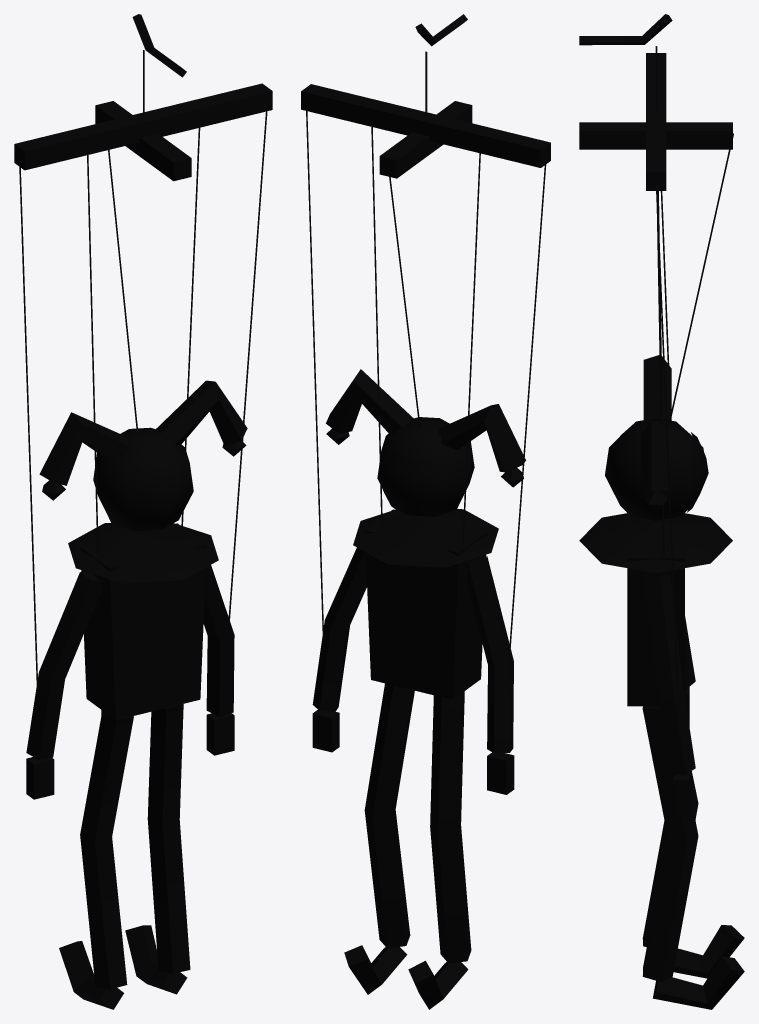
File: SM_marionette.fbx
3 renders of one model, left to right at view 1: azimuth 30°, elevation 25°; view 2: azimuth 150°, elevation 25°; view 3: azimuth 270°, elevation 25°, orthographic. The views are drawn at different scales.
Visible parts, largest first — view 1: marionette_jester, marionette; view 2: marionette_jester; view 3: marionette_jester, marionette.
Boxes of the visible parts, x1,y1,x2,y2 form: marionette_jester: [14, 50, 272, 1009]; marionette: [132, 14, 186, 77]; marionette_jester: [301, 51, 550, 1009]; marionette_jester: [579, 46, 744, 1009]; marionette: [579, 14, 672, 45].
Bounding box in the file's own units: 0.2214 × 0.8433 × 0.1291.
